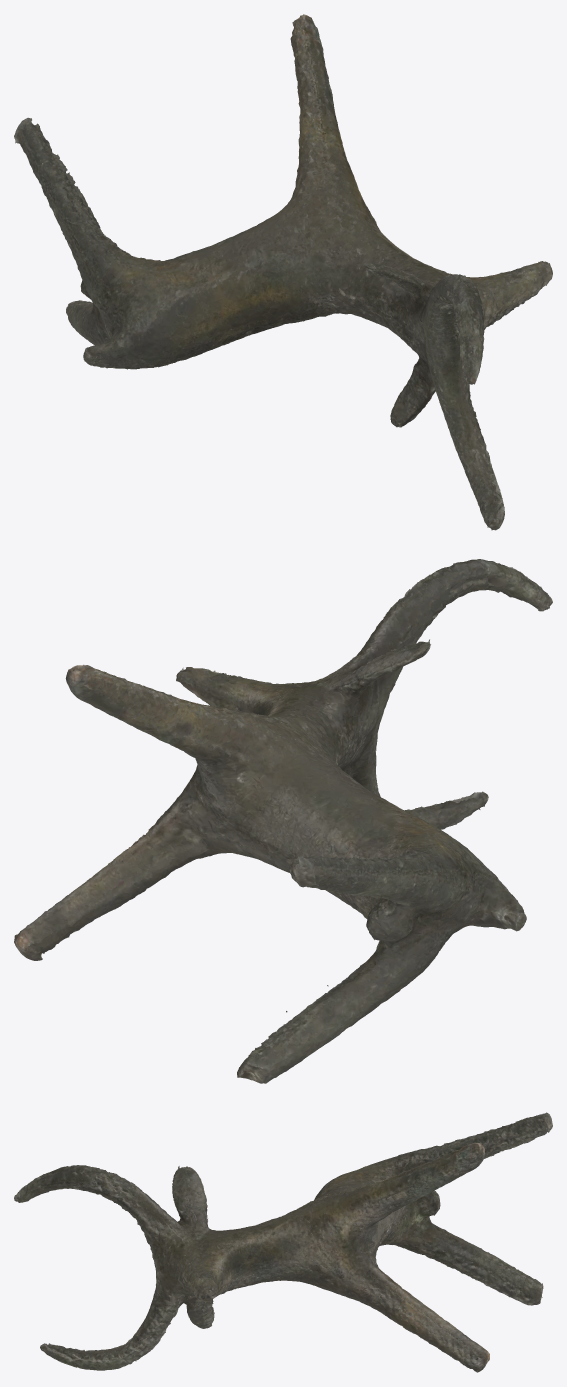
Rendered from preview.glb.
3 renders of one model, top to bottom at view 1: azimuth 30°, elevation 25°; view 2: azimuth 150°, elevation 25°; view 3: azimuth 270°, elevation 25°, orthographic. The views are drawn at different scales.
Parts seen in each view (by area): view 1: Stereo textured mesh_Material0_0; view 2: Stereo textured mesh_Material0_0; view 3: Stereo textured mesh_Material0_0.
Part boxes in pixels (<box>): Stereo textured mesh_Material0_0: <box>14,14,552,530</box>; Stereo textured mesh_Material0_0: <box>14,559,552,1083</box>; Stereo textured mesh_Material0_0: <box>14,1112,552,1372</box>.
Size of the model in its own units: 660 by 508 by 1000.
Materials: 1 (1 with a texture image).
